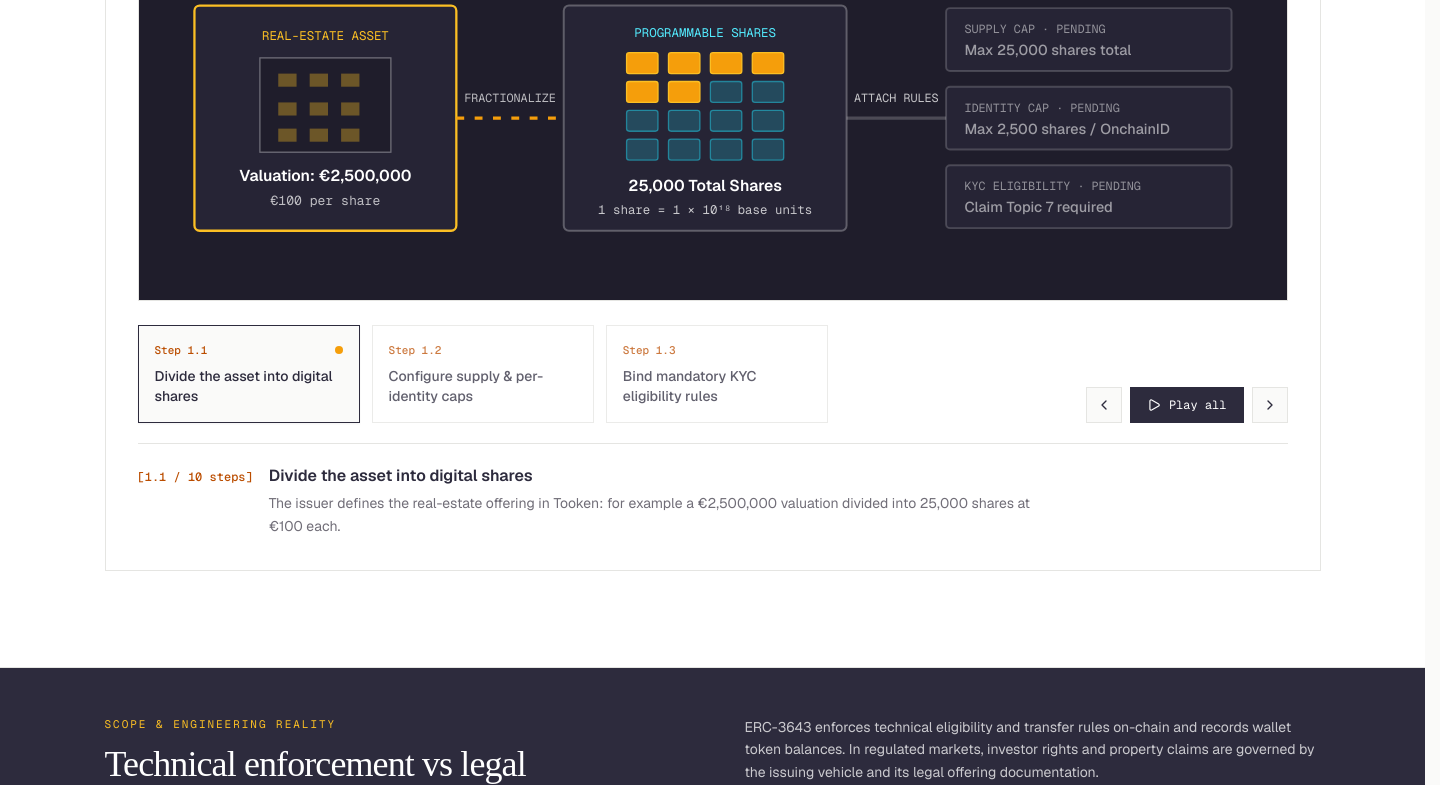
Test: HowItWorksPage › keeps diagrams static when prefers-reduced-motion is enabled and supports manual pause/play
The image size is (1440, 785).
(page scrolled)
// Explicit opt-in via Play all button enables CSS motion-opt-in and advances steps.
Click the button "Play all" at (1187, 405), box [1130, 387, 1244, 423]
Wait 4500 ms
(page scrolled)
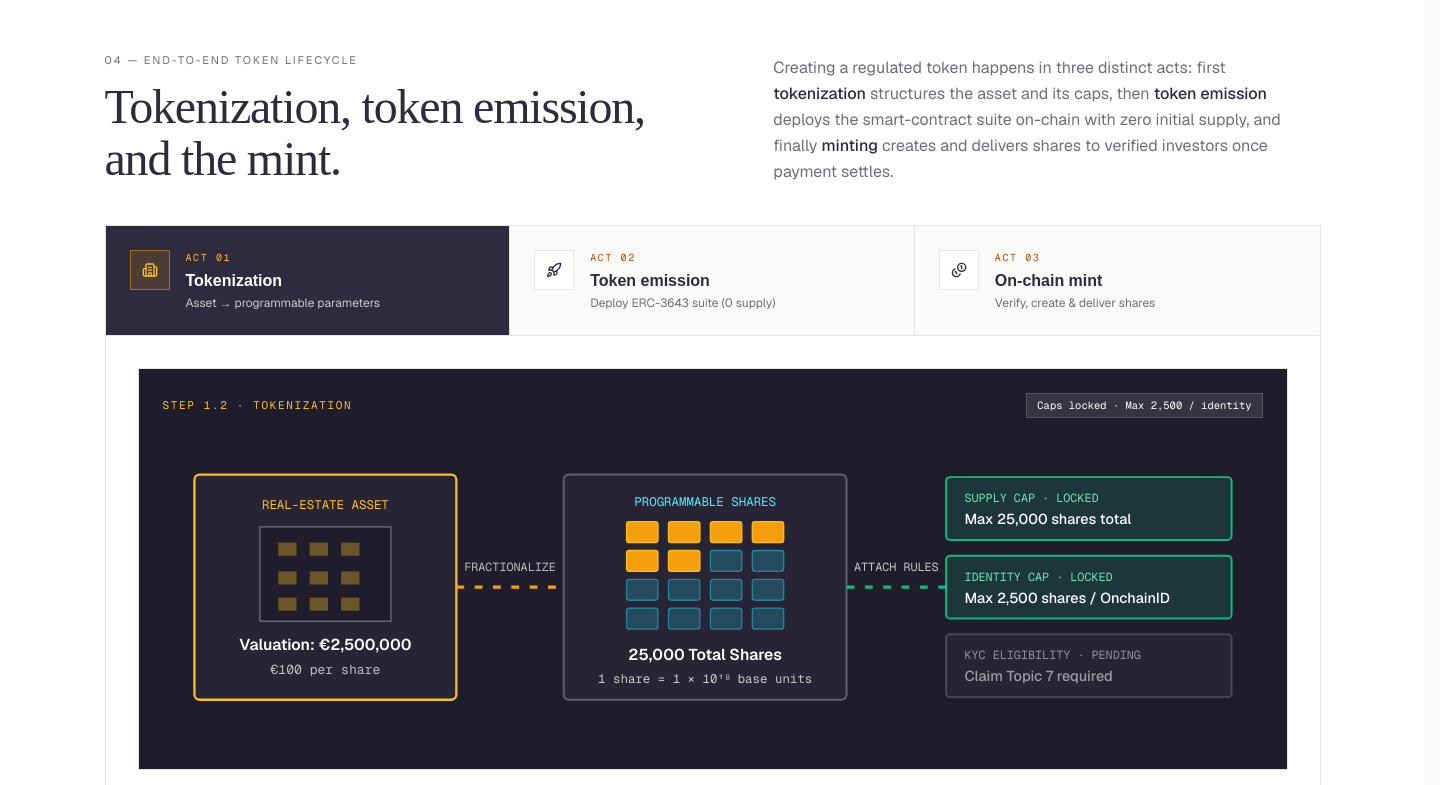
Expected: the text "Caps locked · Max 2,500 / identity" is shown, [1026, 392, 1262, 418]
